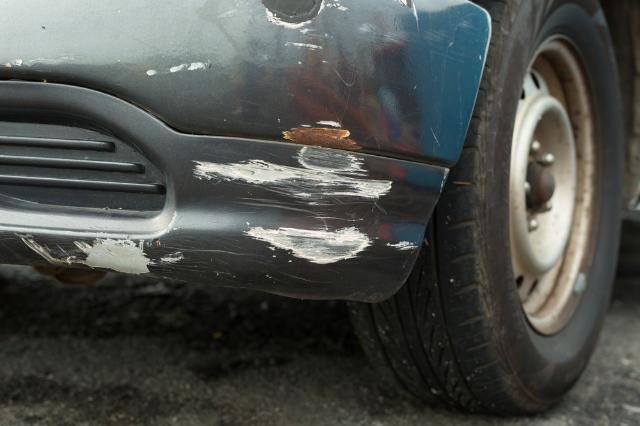scratch: (197, 145, 429, 271), (15, 233, 204, 277), (280, 114, 361, 152), (140, 57, 228, 80)
